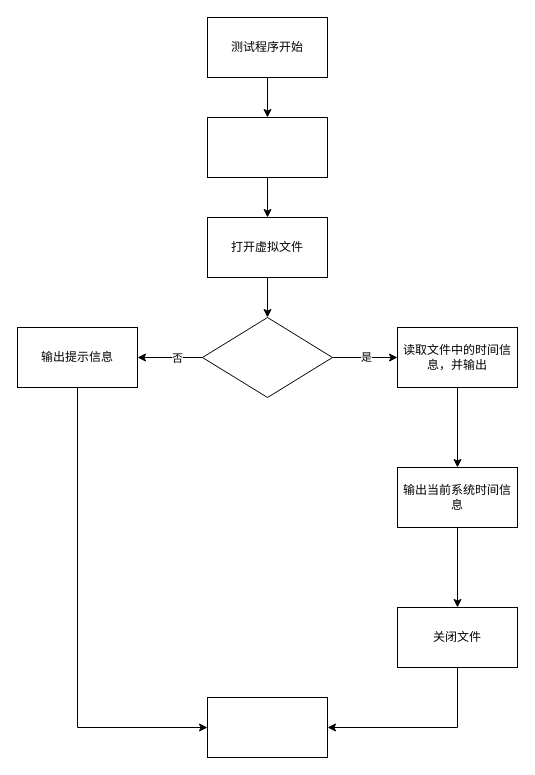
Some shapes in this 535 by 775 pixel diagram are drawn without their labels. The centre of each missing label's shape, as x and y in pixels:
"定义所需变量" belongs at (267,147).
"打开文件是否成功" belongs at (267,357).
"退出" belongs at (267,727).
